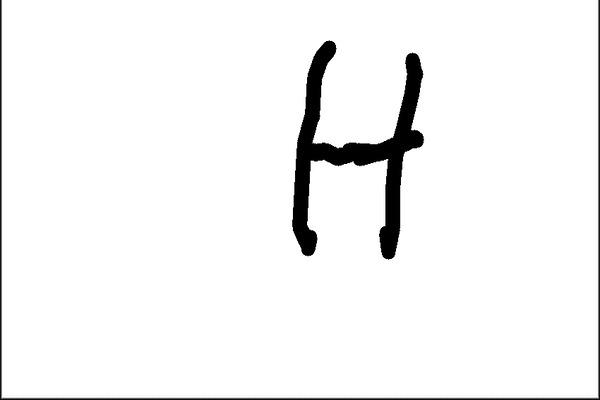H: (281, 33, 428, 264)
